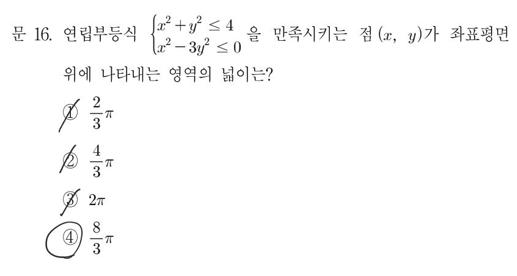1: (43, 220, 85, 261)
paper: (60, 101, 81, 123), (60, 150, 81, 172), (61, 188, 82, 210), (59, 226, 80, 248)
